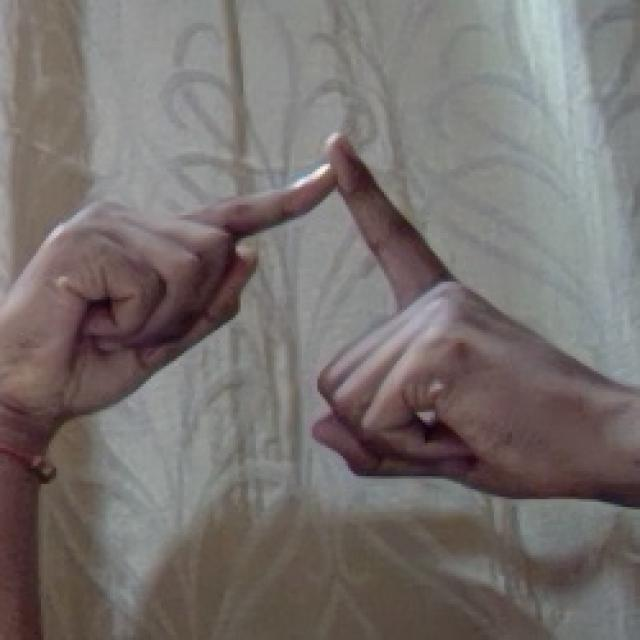Alphabet-E: (24, 133, 616, 556)
